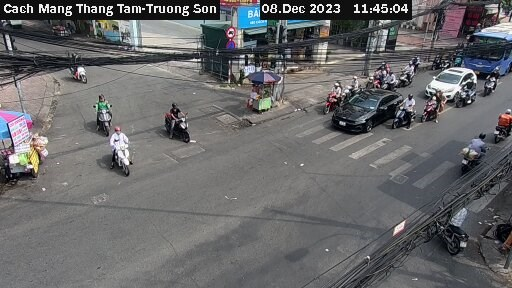bus: (466, 22, 512, 75)
car: (335, 86, 400, 133), (423, 64, 476, 103)
motorbike: (102, 130, 152, 184), (433, 198, 473, 250), (154, 103, 201, 145), (84, 96, 123, 131), (459, 130, 489, 173), (390, 96, 419, 129), (66, 51, 92, 86), (418, 91, 445, 122), (490, 107, 512, 142), (396, 60, 422, 88), (320, 82, 344, 111), (481, 69, 502, 96), (378, 69, 400, 93), (340, 74, 366, 93)
